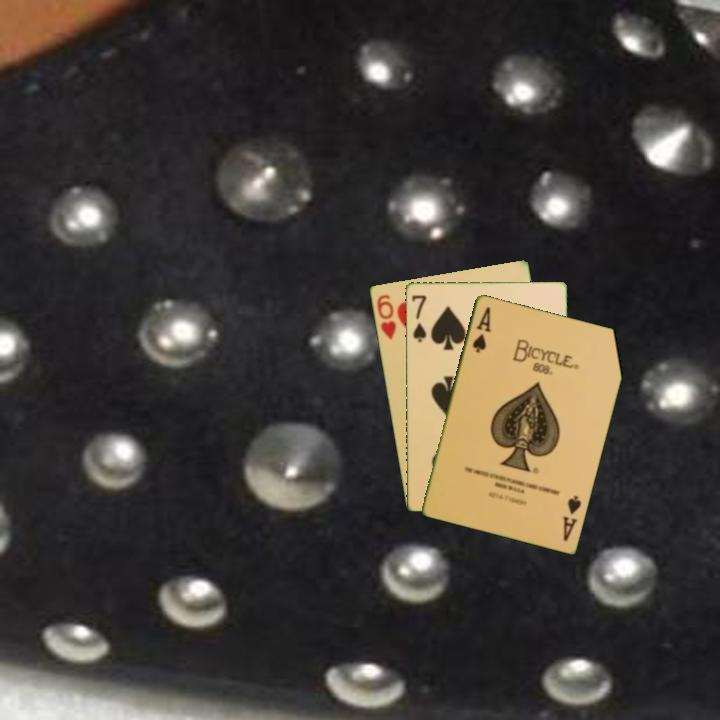6h: (373, 291, 399, 342)
7s: (408, 291, 429, 344)
As: (559, 492, 584, 544), (469, 303, 493, 356)
